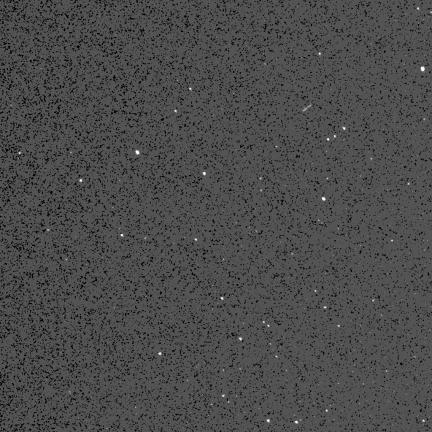blob: (135, 150, 139, 155), (239, 338, 243, 342), (322, 197, 326, 201), (121, 234, 124, 238), (195, 238, 198, 242), (343, 127, 346, 131), (421, 67, 424, 71), (295, 421, 299, 424), (267, 419, 270, 423), (159, 352, 162, 356), (221, 297, 224, 300), (203, 172, 206, 175), (319, 53, 322, 56), (189, 88, 192, 91), (175, 110, 178, 113), (327, 138, 330, 141), (80, 179, 82, 182)
